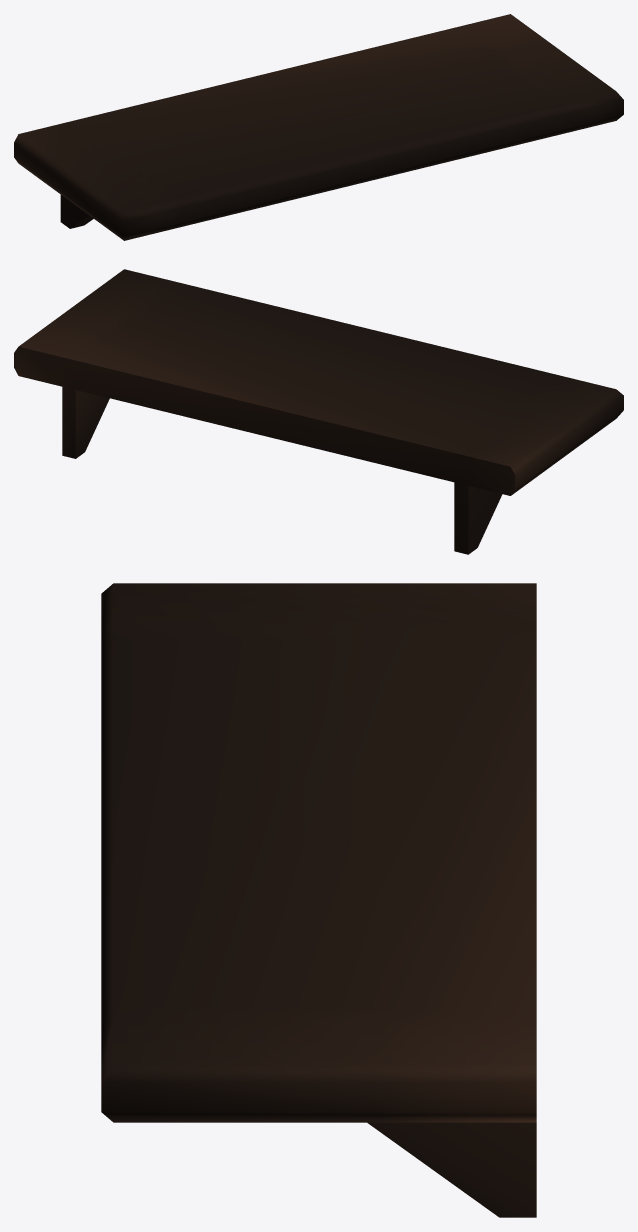
The model's file is Shelf.fbx.
The picture shows the model from 3 angles, top to bottom: view 1: azimuth 30°, elevation 25°; view 2: azimuth 150°, elevation 25°; view 3: azimuth 270°, elevation 25°; orthographic projection. The views are drawn at different scales.
Parts seen in each view (by area): view 1: Shelf; view 2: Shelf; view 3: Shelf.
Boxes of the visible parts, box(x1,y1,x2,y2) form: Shelf: box(14, 14, 623, 240); Shelf: box(14, 269, 623, 554); Shelf: box(101, 583, 536, 1217).
Size of the model in its own units: 1627 by 305 by 612.
